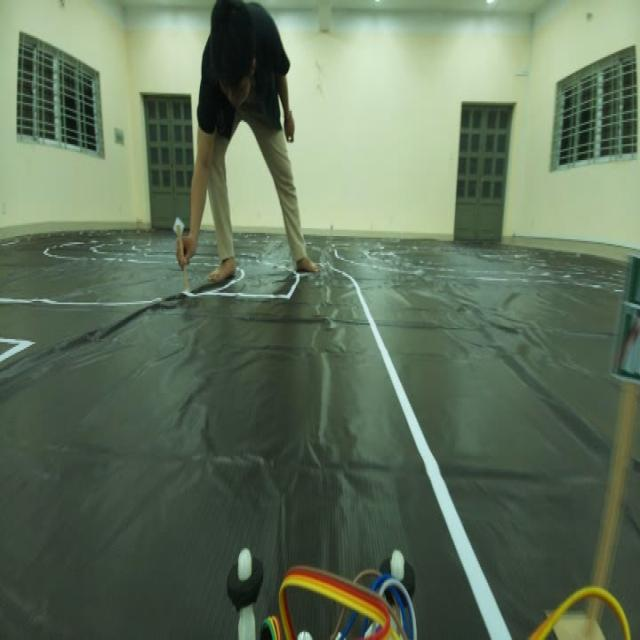highway_exit: (614, 250, 640, 390)
